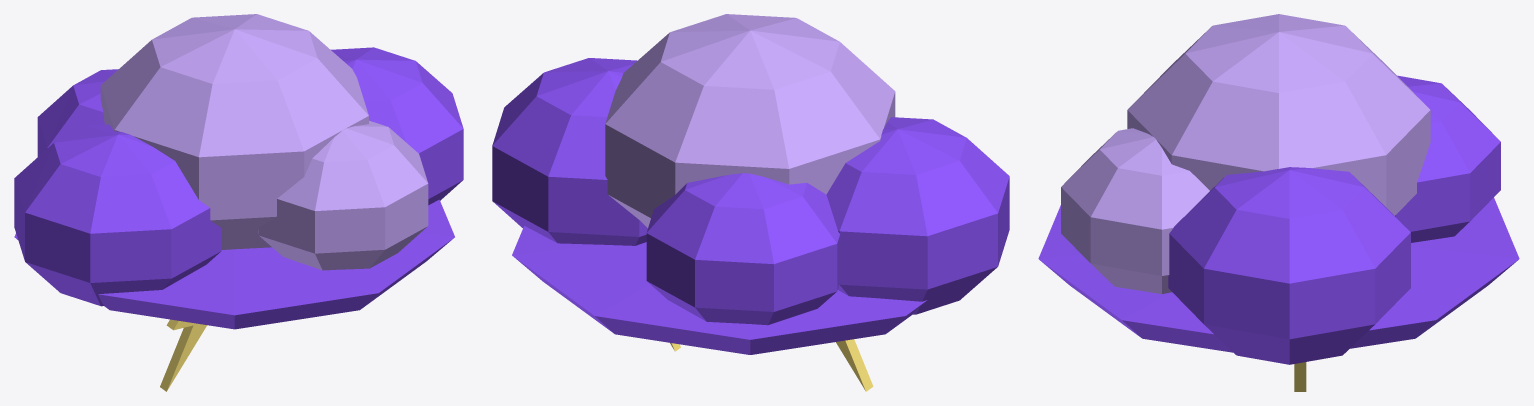
The model's file is nebula.obj.
3 renders of one model, left to right at view 1: azimuth 30°, elevation 25°; view 2: azimuth 150°, elevation 25°; view 3: azimuth 270°, elevation 25°, orthographic. The views are drawn at different scales.
Size of the model in its own units: 2.62 by 1.83 by 2.27.
